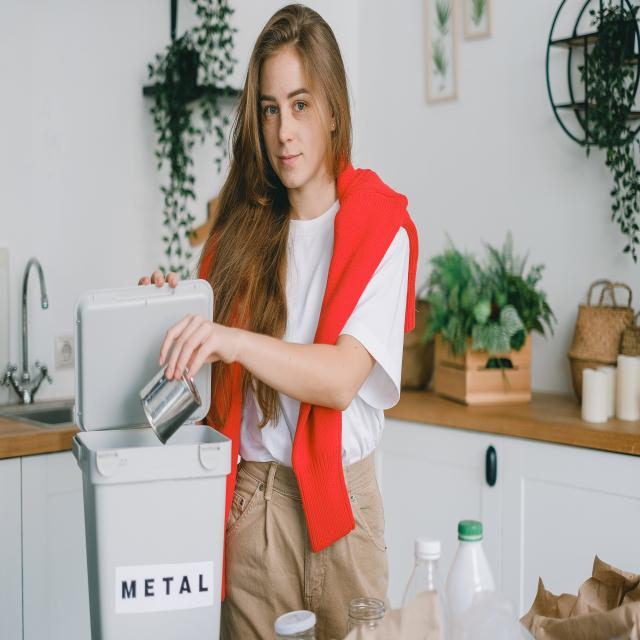metal: (146, 373, 190, 430)
